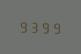nine: (18, 19, 28, 33), (40, 20, 50, 34), (51, 20, 61, 34)
three: (29, 19, 39, 33)
